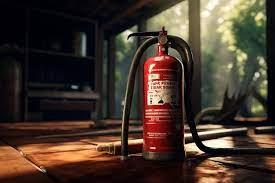floor-kept: (119, 19, 213, 171)
